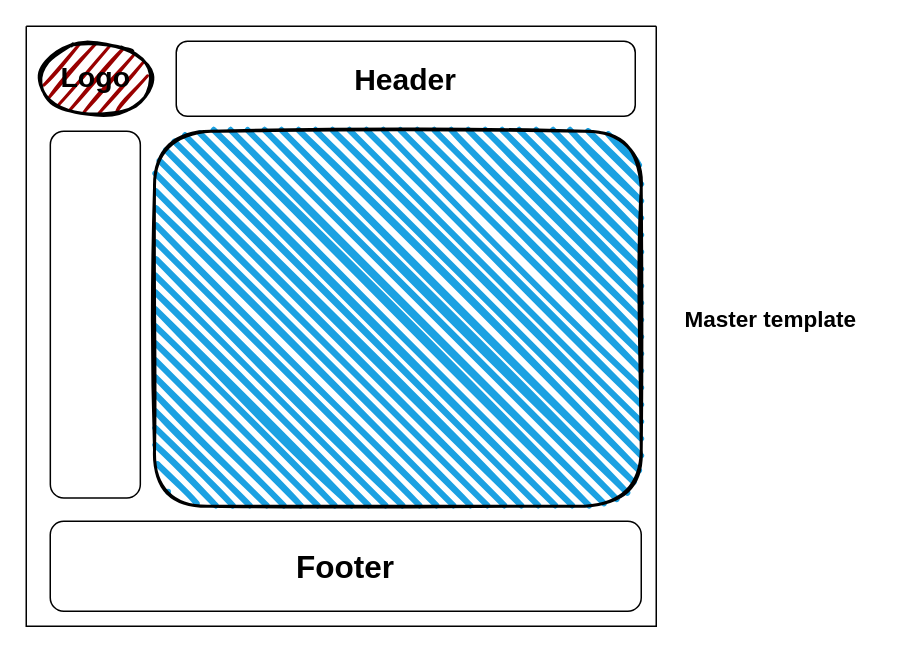
The diagram is 902 pixels wide and 653 high, and some of its shapes have lost their labels. Each missing label, with the centre of its shape:
Left: point 94,314
Main: point 397,318
